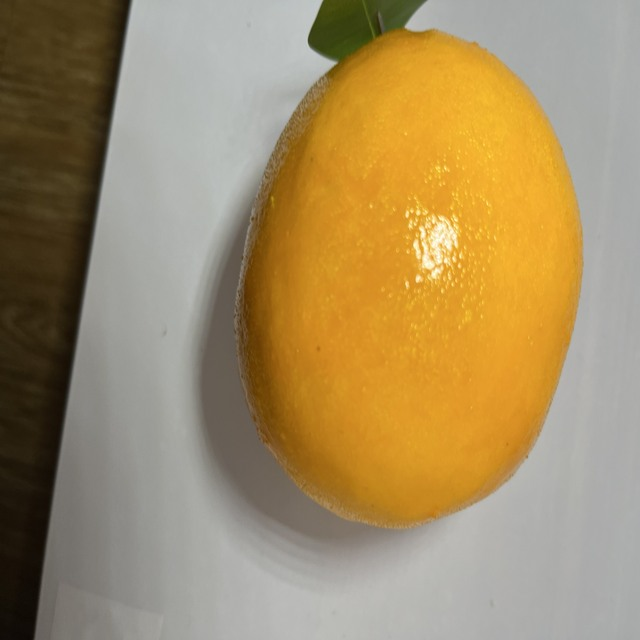Cam vang: (232, 24, 588, 530)
